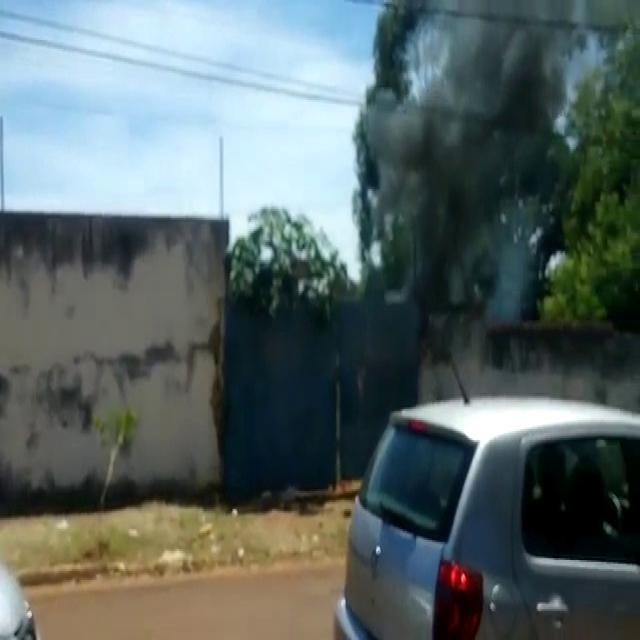Smoke: (374, 5, 606, 384)
